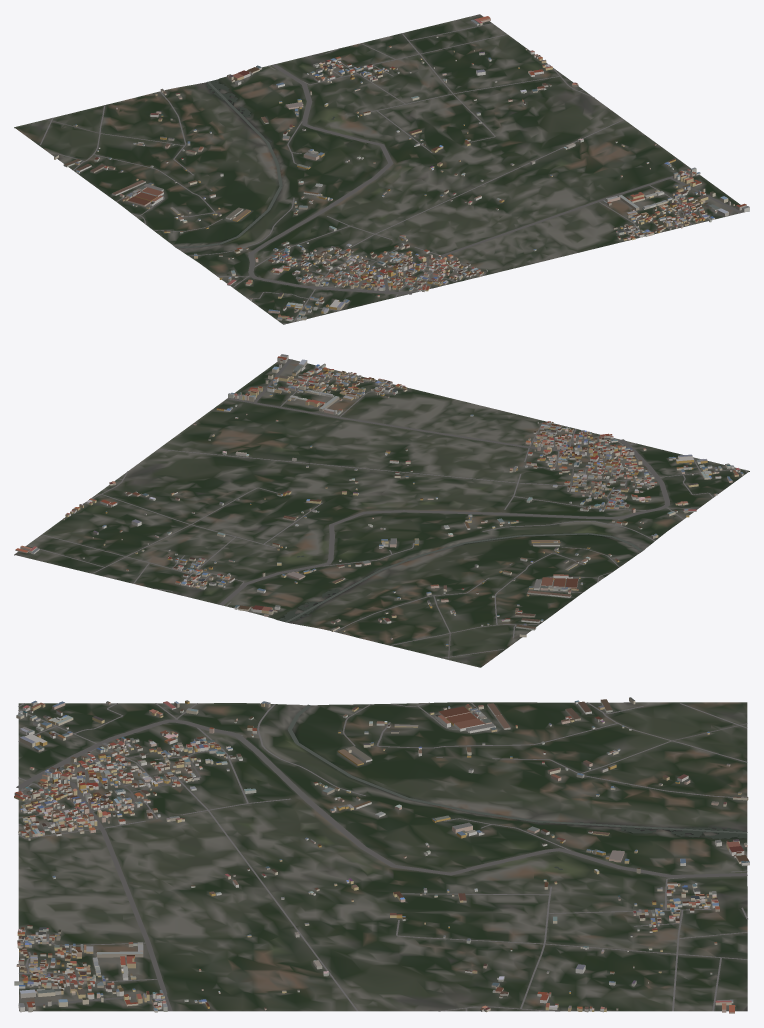
3 views of the same model, one above another, from view 1: azimuth 30°, elevation 25°; view 2: azimuth 150°, elevation 25°; view 3: azimuth 270°, elevation 25° (orthographic). The views are drawn at different scales.
Parts seen in each view (by area): view 1: ground, buildings, roads, water; view 2: ground, buildings, roads, water; view 3: ground, buildings, roads, water.
Boxes of the visible parts, x1,y1,x2,y2 form: ground: (14,14,749,324); buildings: (54,16,749,321); roads: (40,23,742,323); water: (175,79,335,247); ground: (14,358,749,667); buildings: (15,354,743,645); roads: (27,359,747,659); water: (278,533,642,622); ground: (18,702,747,1011); buildings: (14,697,749,1013); roads: (16,702,747,1011); water: (287,704,747,869).
Bounding box in the file's own units: 1420 × 21.39 × 1416.
